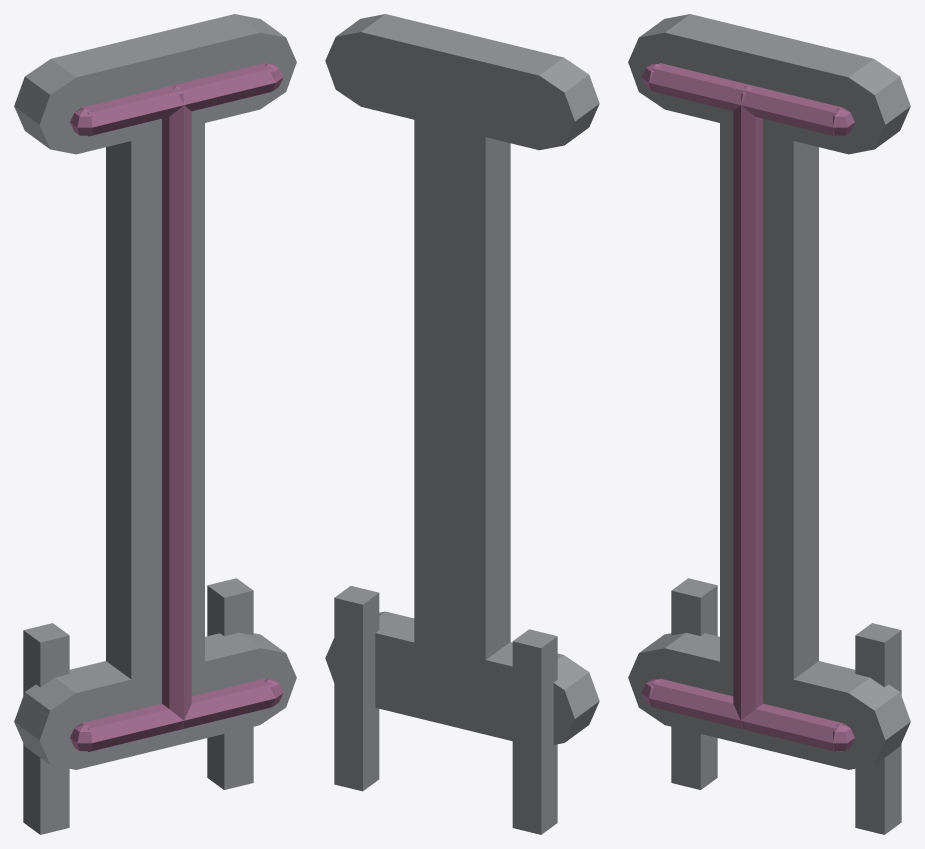
Rendered from HJ_Neon_I.fbx.
The picture shows the model from 3 angles, left to right: view 1: azimuth 30°, elevation 25°; view 2: azimuth 150°, elevation 25°; view 3: azimuth 330°, elevation 25°; orthographic projection. The views are drawn at different scales.
Visible parts, largest first — view 1: HJ_Neon_I; view 2: HJ_Neon_I; view 3: HJ_Neon_I.
Boxes of the visible parts, x1,y1,x2,y2 form: HJ_Neon_I: (14, 14, 296, 834); HJ_Neon_I: (325, 14, 599, 834); HJ_Neon_I: (628, 14, 910, 834).
Size of the model in its own units: 0.7 by 2 by 0.255.
